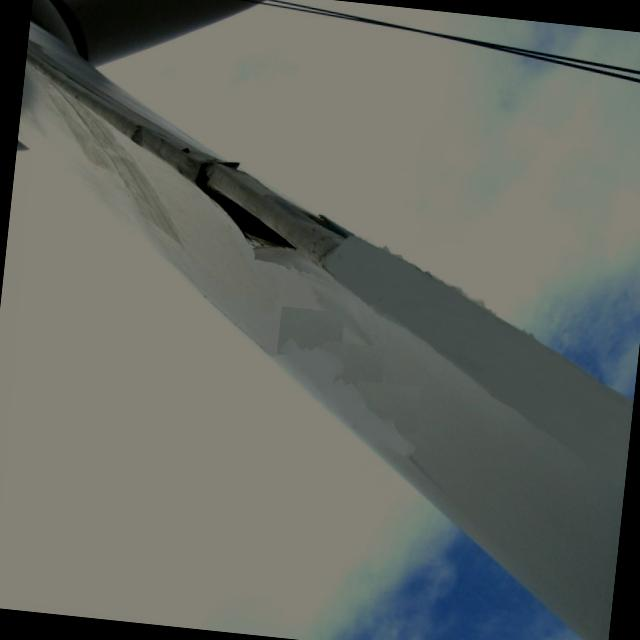crack: (157, 134, 374, 292)
